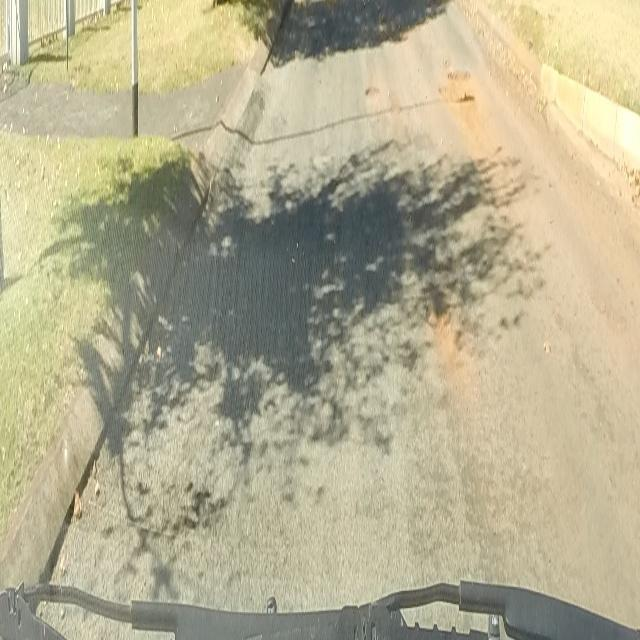pothole: (436, 65, 477, 115), (423, 292, 457, 345), (362, 80, 385, 102)
